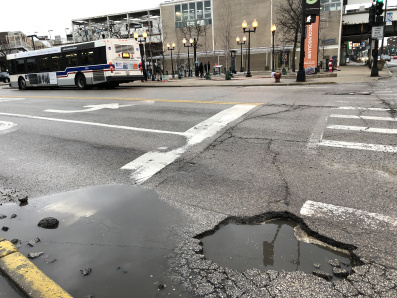pothole: (191, 206, 367, 285)
